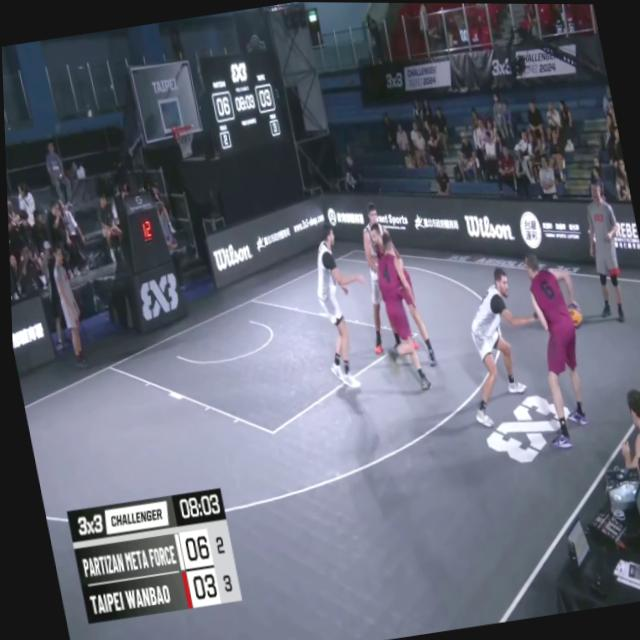ball: (556, 293, 586, 334)
hoop: (169, 119, 200, 162)
player: (450, 263, 553, 434), (516, 249, 600, 448), (301, 218, 383, 396), (361, 230, 435, 397), (362, 214, 436, 374), (345, 200, 418, 353)
